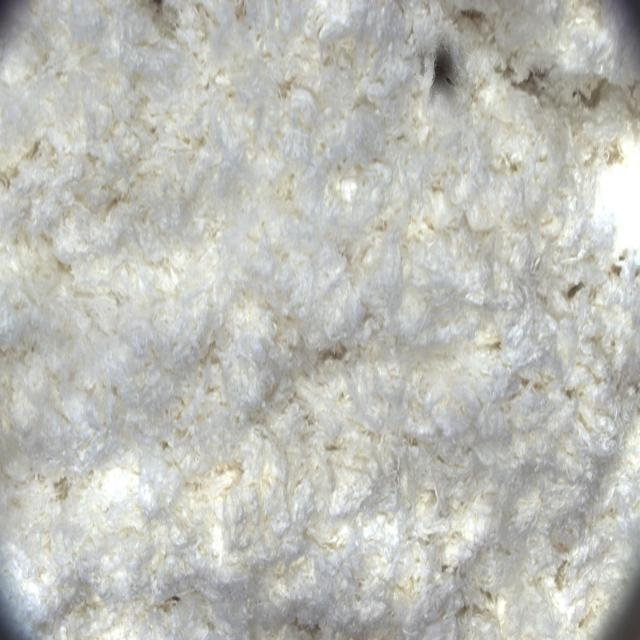dust: (405, 18, 488, 118)
